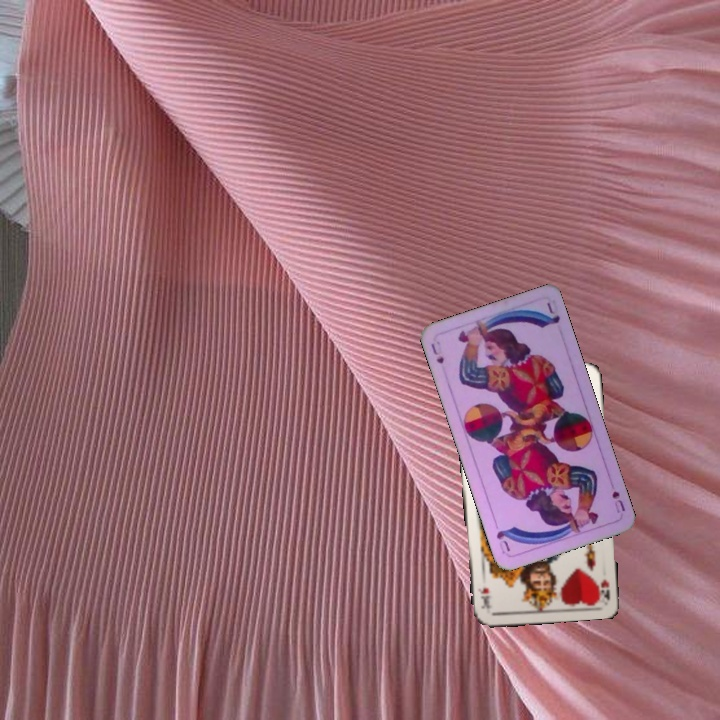HK: (594, 576, 613, 603)
SU: (608, 487, 628, 516), (427, 339, 447, 366)
